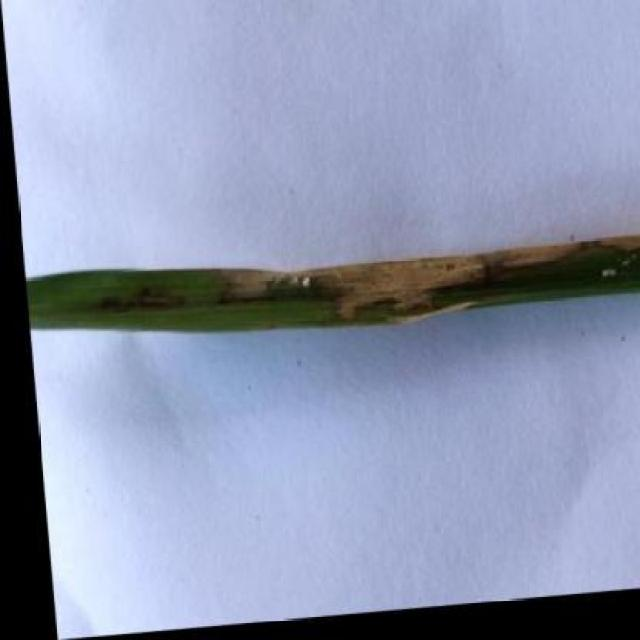Brown_Spot: (18, 222, 640, 362)
